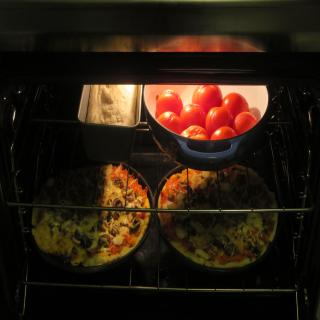tomato: (192, 84, 225, 112), (205, 106, 234, 137), (156, 89, 184, 112), (221, 93, 249, 116), (235, 109, 259, 135), (180, 103, 206, 126), (156, 109, 184, 129), (179, 124, 209, 140), (210, 126, 235, 141)
